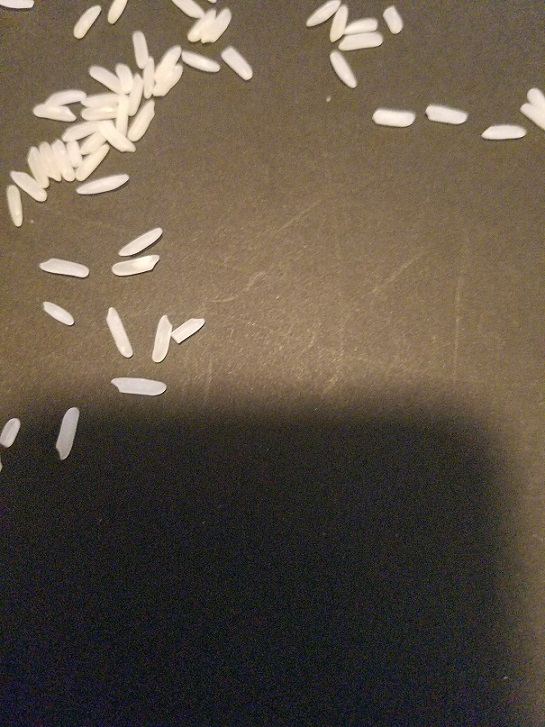egg: (101, 303, 137, 363), (72, 169, 130, 201), (218, 41, 259, 86), (113, 224, 166, 258), (4, 165, 49, 204), (50, 403, 81, 459), (197, 3, 235, 47), (71, 142, 113, 181), (35, 253, 93, 281), (124, 99, 160, 142), (172, 46, 223, 76), (68, 1, 105, 42), (148, 311, 176, 365), (328, 48, 360, 92), (48, 137, 78, 183), (24, 143, 52, 192), (63, 115, 115, 141), (153, 41, 183, 86), (424, 102, 472, 130), (169, 314, 208, 348), (109, 375, 169, 397), (111, 253, 161, 279), (153, 62, 188, 99), (86, 63, 126, 94), (38, 141, 66, 185), (36, 296, 77, 326), (334, 29, 387, 52), (302, 1, 342, 30), (479, 120, 531, 142), (101, 124, 139, 154), (26, 102, 80, 123), (185, 7, 215, 44), (43, 85, 86, 110), (4, 181, 26, 229), (370, 107, 420, 128), (72, 128, 108, 157), (327, 1, 350, 46), (125, 73, 146, 118), (382, 1, 407, 37), (519, 99, 545, 131), (131, 30, 150, 72), (165, 1, 207, 20), (344, 13, 378, 35), (77, 101, 119, 118), (82, 91, 124, 108), (64, 135, 83, 172), (113, 59, 133, 94), (1, 417, 22, 449), (524, 81, 545, 112), (116, 91, 130, 135), (104, 1, 126, 28), (144, 56, 154, 99), (1, 2, 36, 10)
